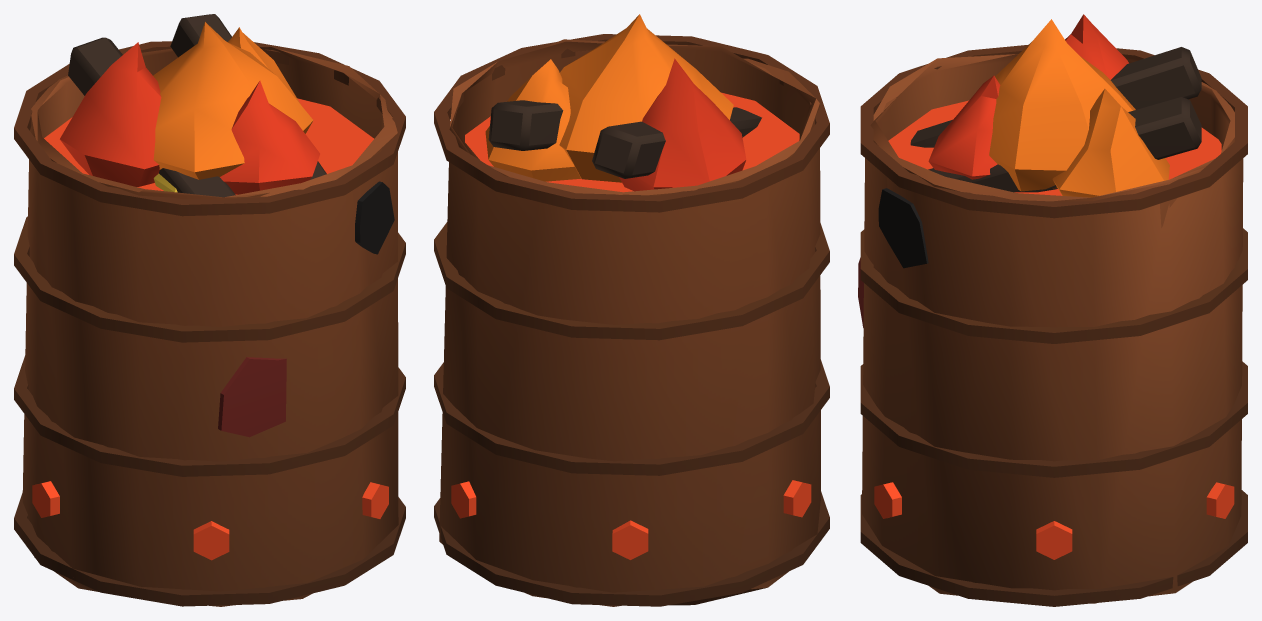
The model's file is 06_baril_feu.fbx.
3 renders of one model, left to right at view 1: azimuth 30°, elevation 25°; view 2: azimuth 150°, elevation 25°; view 3: azimuth 270°, elevation 25°, orthographic.
Visible parts, largest first — view 1: Fut, Flammes, Braises; view 2: Fut, Flammes, Braises; view 3: Fut, Flammes, Braises.
Boxes of the visible parts, x1,y1,x2,y2 form: Fut: (14, 14, 405, 606); Flammes: (60, 22, 319, 194); Braises: (32, 98, 388, 560); Fut: (434, 34, 829, 606); Flammes: (485, 14, 746, 191); Braises: (451, 92, 811, 559); Fut: (858, 44, 1247, 606); Flammes: (928, 14, 1169, 197); Braises: (874, 100, 1234, 559).
Size of the model in its own units: 0.616 by 0.896 by 0.616.
Materials: 1 (1 with a texture image).
